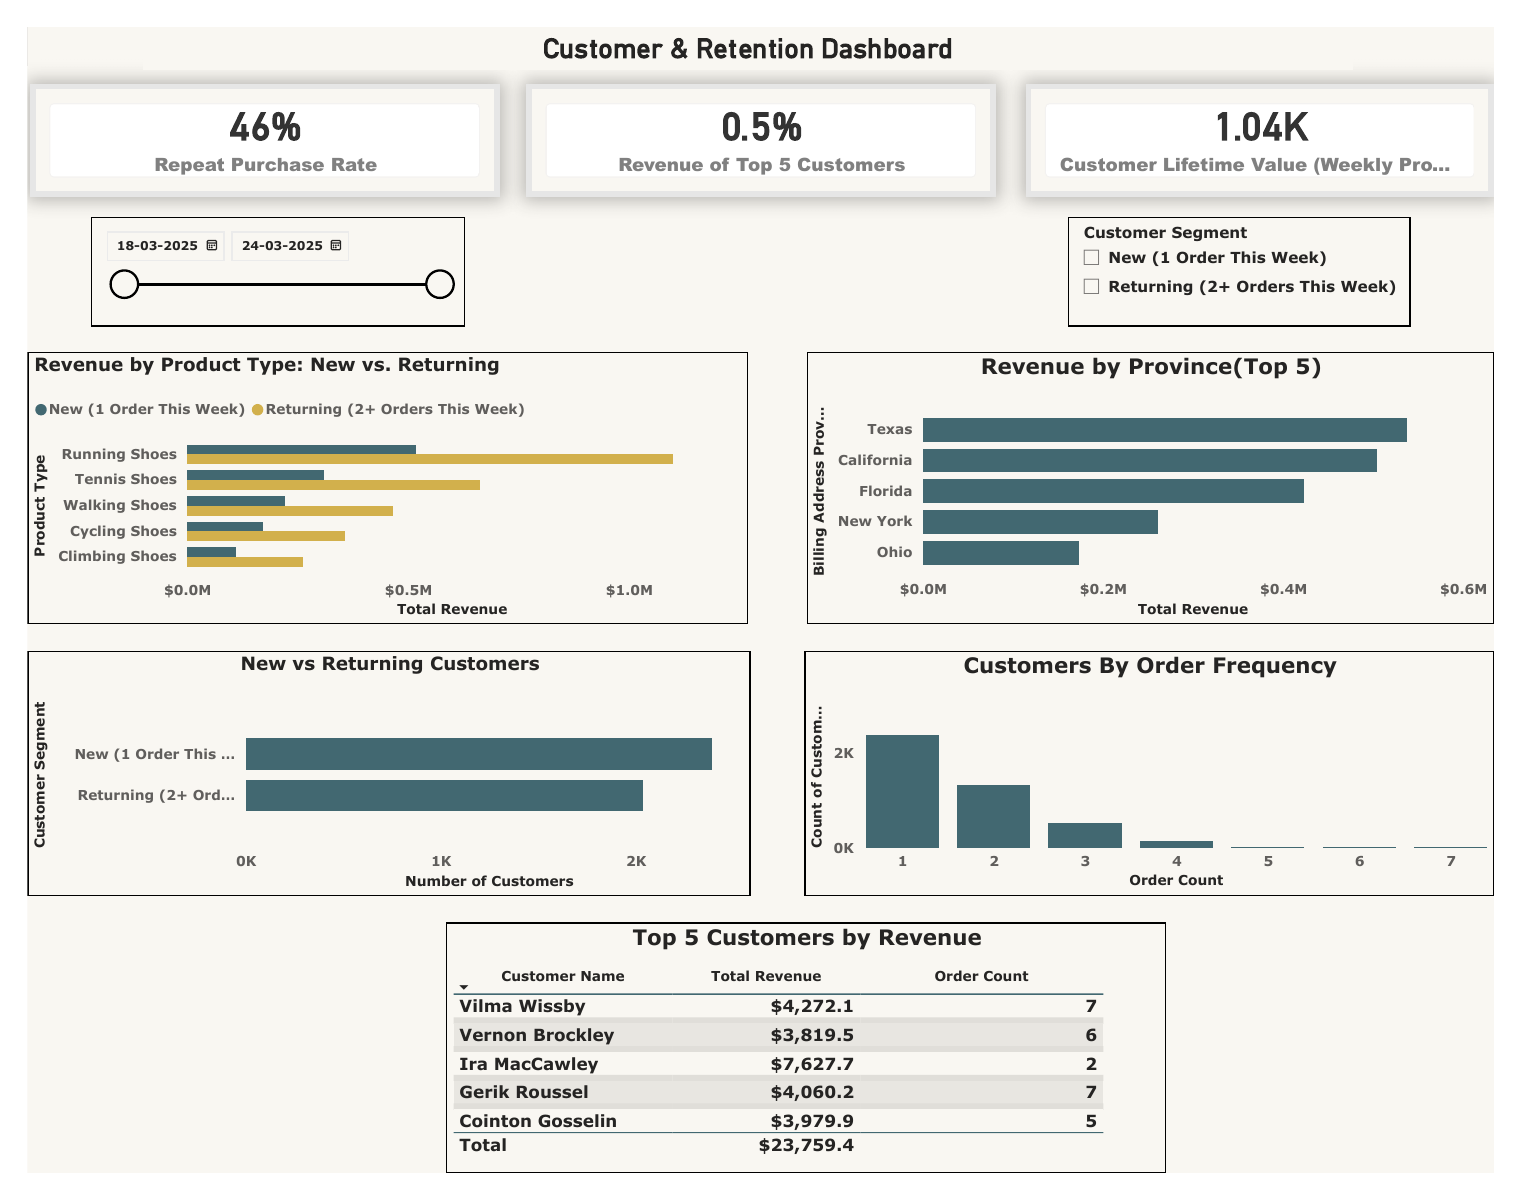

The page's visual inventory and layout, read from the dashboard file:
{"tool":"powerbi","page":{"name":"Customer and Retention","canvas":[1280,1000],"ordinal":1},"visuals":[{"type":"barChart","title":"New vs Returning Customers","fields":{"Category":["Dim_Customer.Customer Segment"],"Y":["CountNonNull(Dim_Customer.CustomerKey)"]},"box":[0,543.6,630.5,214.7],"z":0},{"type":"cardVisual","fields":{"Data":["_Measures (2).Repeat Purchase Rate"]},"box":[1.7,49.4,410.7,98.8],"z":1000},{"type":"tableEx","title":"Top 5 Customers by Revenue","fields":{"Values":["Dim_Customer.Customer Name","_Measures (2).Total Revenue","Dim_Customer.Order Count"]},"box":[364.7,780.5,628.8,219.8],"z":2000},{"type":"cardVisual","fields":{"Data":["_Measures (2).Top 10 Revenue  Share %"]},"box":[434.6,49.4,410.7,98.8],"z":3000},{"type":"clusteredColumnChart","title":"Customers By Order Frequency","fields":{"Category":["Dim_Customer.Order Count"],"Y":["CountNonNull(Dim_Customer.CustomerKey)"]},"box":[678.3,543.6,601.6,214.7],"z":4000},{"type":"barChart","title":" Revenue by Province(Top 5)","fields":{"Category":["Dim_Customer.Billing Address Province"],"Y":["_Measures (2).Total Revenue"]},"box":[680,282.9,599.9,238.6],"z":5000},{"type":"cardVisual","fields":{"Data":["_Measures (2).Customer Lifetime Value (Weekly Proxy)"]},"box":[870.8,49.4,409,98.8],"z":6000},{"type":"slicer","fields":{"Values":["Dim_Date.Date"]},"box":[54.5,165.3,327.2,95.4],"z":7000},{"type":"slicer","title":"C","fields":{"Values":["Dim_Customer.Customer Segment"]},"box":[908.3,165.3,298.2,95.4],"z":8000},{"type":"textbox","box":[100.5,0,1056.6,37.5],"z":9000},{"type":"clusteredBarChart","title":" Revenue by Product Type: New vs. Returning","fields":{"Category":["Fact_Sales.Product Type"],"Series":["Dim_Customer.Customer Segment"],"Y":["_Measures (2).Total Revenue"]},"box":[0,282.9,628.8,238.6],"z":10000}]}

Visuals, with their boxes in screenshot pixels (x1, y1, x2, y2), scaled from the page's 1280x1000 canvas onto the 1522x1201 screenshot:
"New vs Returning Customers" barChart: box=[0, 653, 750, 911]
cardVisual - _Measures (2).Repeat Purchase Rate: box=[2, 59, 490, 178]
"Top 5 Customers by Revenue" tableEx: box=[434, 937, 1181, 1200]
cardVisual - _Measures (2).Top 10 Revenue  Share %: box=[517, 59, 1005, 178]
"Customers By Order Frequency" clusteredColumnChart: box=[807, 653, 1521, 911]
" Revenue by Province(Top 5)" barChart: box=[809, 340, 1521, 626]
cardVisual - _Measures (2).Customer Lifetime Value (Weekly Proxy): box=[1035, 59, 1521, 178]
slicer - Dim_Date.Date: box=[65, 199, 454, 313]
"C" slicer: box=[1080, 199, 1435, 313]
textbox: box=[120, 0, 1376, 45]
" Revenue by Product Type: New vs. Returning" clusteredBarChart: box=[0, 340, 748, 626]
